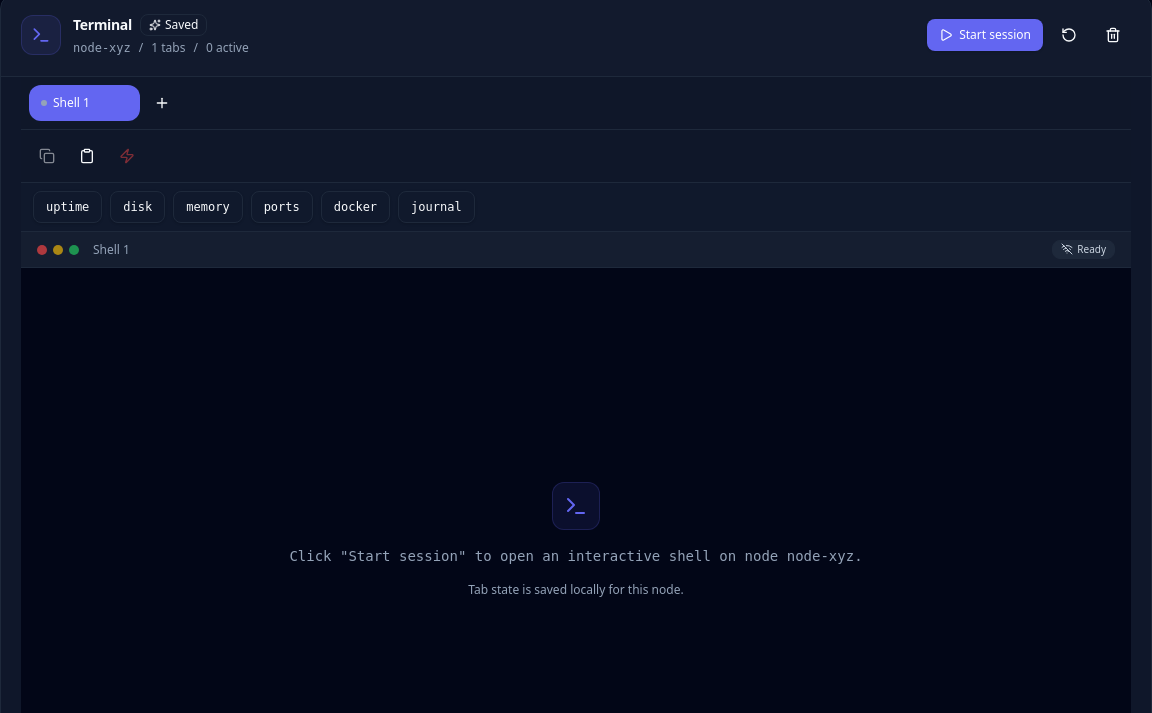
Test: NodeTerminal › clicking Start session enables the session and renders the xterm container
The width and height of the screenshot is (1152, 713).
Click the button "Start session" at {"x": 985, "y": 35}, box [927,19,1043,51]
(page scrolled)
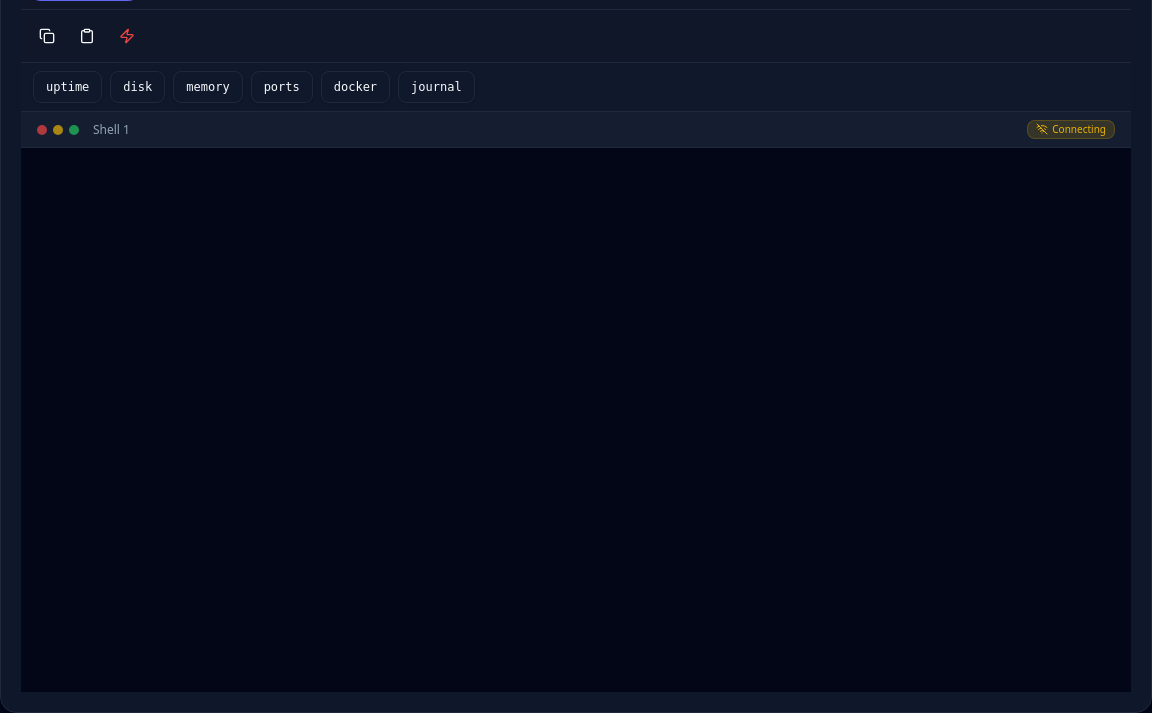
Now the element with test id "fleet-terminal-container" is shown
